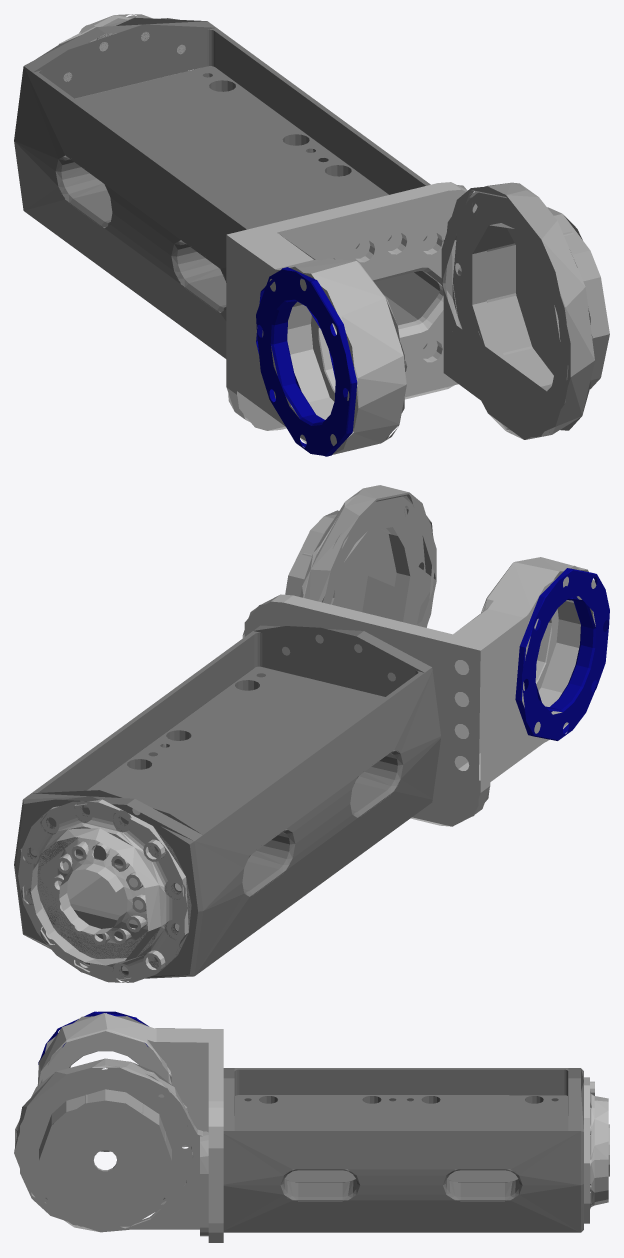
The model's file is ArmR_Sho4_joint_visu.dae.
The picture shows the model from 3 angles, top to bottom: view 1: azimuth 30°, elevation 25°; view 2: azimuth 150°, elevation 25°; view 3: azimuth 270°, elevation 25°; orthographic projection. The views are drawn at different scales.
Parts seen in each view (by area): view 1: Visualization_ARDof4; view 2: Visualization_ARDof4; view 3: Visualization_ARDof4.
Part boxes in pixels (bbox=[...]): Visualization_ARDof4: bbox=[14, 14, 609, 456]; Visualization_ARDof4: bbox=[14, 485, 609, 982]; Visualization_ARDof4: bbox=[14, 1011, 609, 1242].
Bounding box in the file's own units: 0.072 × 0.2019 × 0.066.
